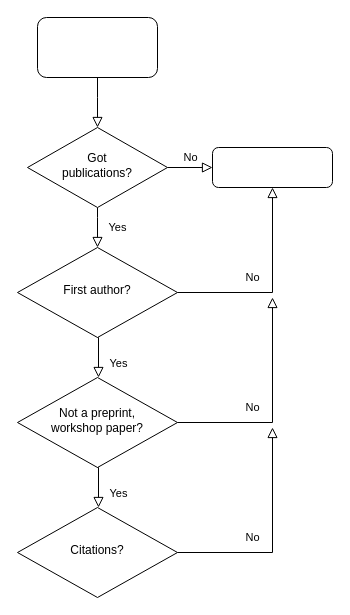
The diagram is 350 pixels wide and 615 high, and some of its shapes have lost their labels. Here are the shapes that lost their labels. From the top down, the box of each, then its label:
(36, 16, 158, 78): Third year of PhD
(212, 146, 332, 188): Despair
